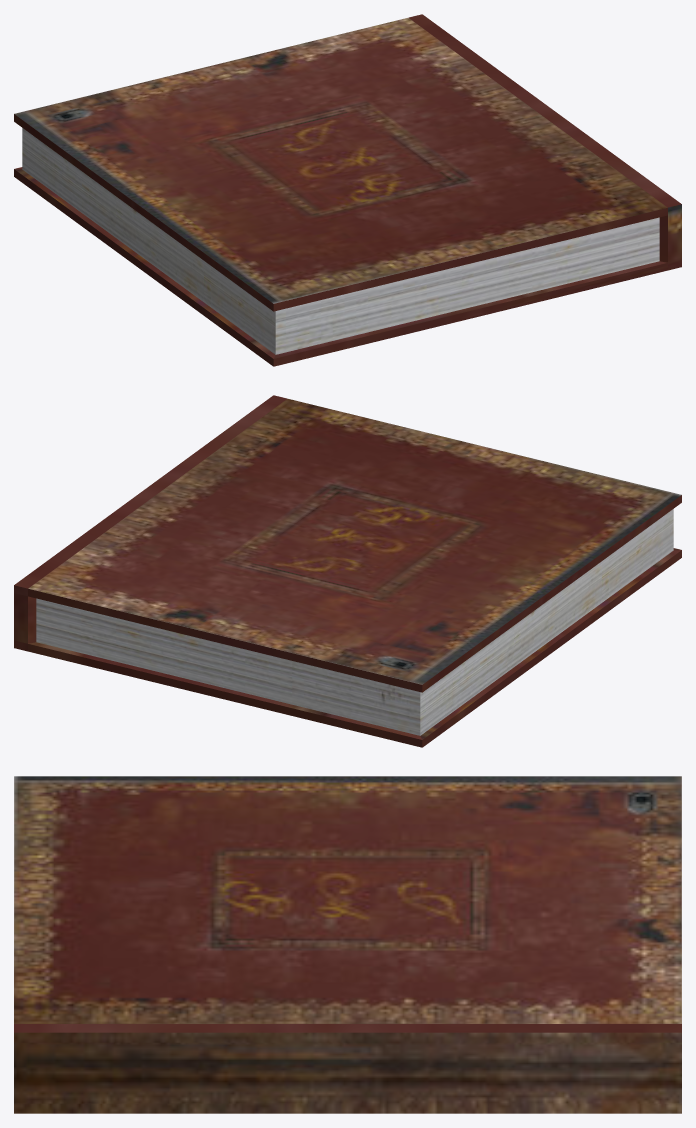
File: livrovelho.fbx
The picture shows the model from 3 angles, top to bottom: view 1: azimuth 30°, elevation 25°; view 2: azimuth 150°, elevation 25°; view 3: azimuth 270°, elevation 25°; orthographic projection. The views are drawn at different scales.
Parts seen in each view (by area): view 1: Cube.003; view 2: Cube.003; view 3: Cube.003.
Part boxes in pixels (x1,y1,x2,y2): Cube.003: (14,14,681,366); Cube.003: (14,395,681,747); Cube.003: (14,776,681,1113).
Bounding box in the file's own units: 25.93 × 3.85 × 28.55.
